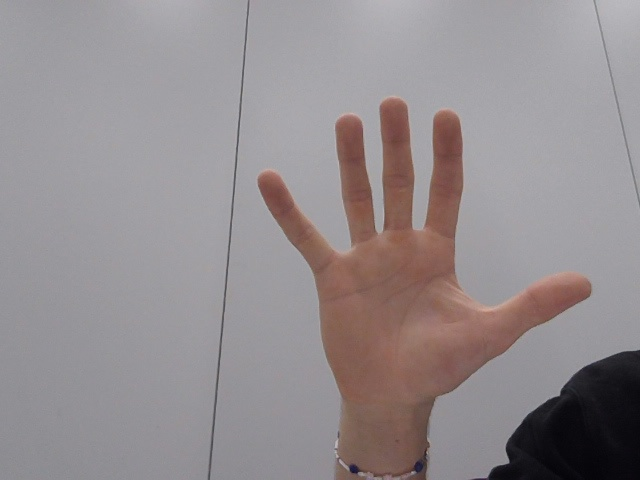nada: (246, 77, 603, 433)
